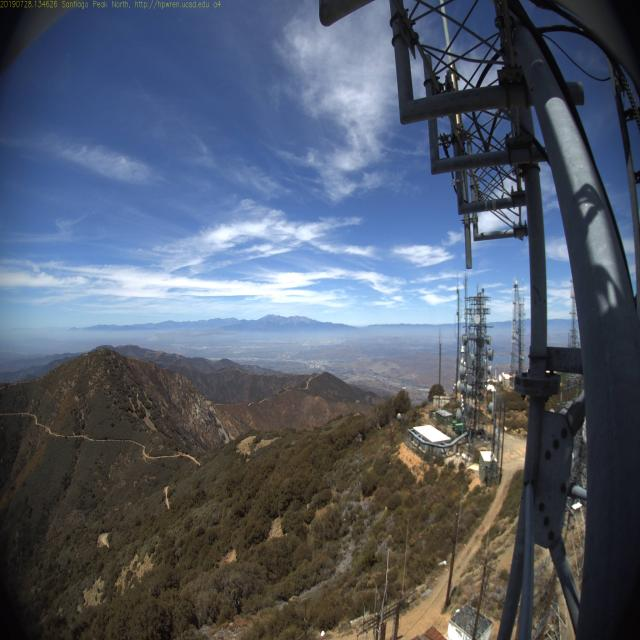smoke: (149, 324, 170, 348)
